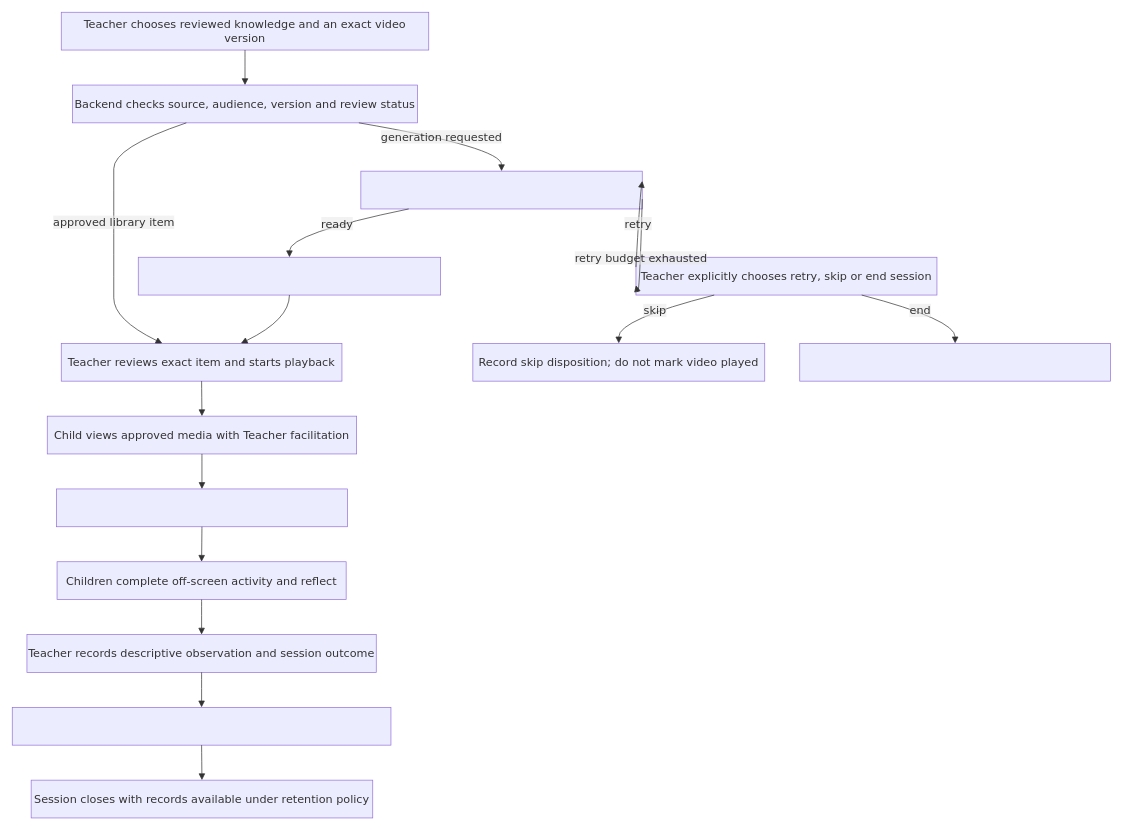
This 1123x830 diagram has some shape labels left out. Each missing label, with the centre of its shape:
Persist early-end outcome and work completed so far: the point at 955,362
Persist outcome and provenance; complete only after durable save: the point at 201,726
Teacher assigns a reviewed class or group activity: the point at 202,507
Teacher inspects and approves exact output version: the point at 289,276
Worker prepares video and reports typed status: the point at 501,189
